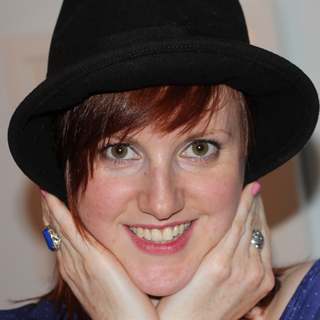eye: (174, 135, 223, 166), (90, 141, 145, 165)
